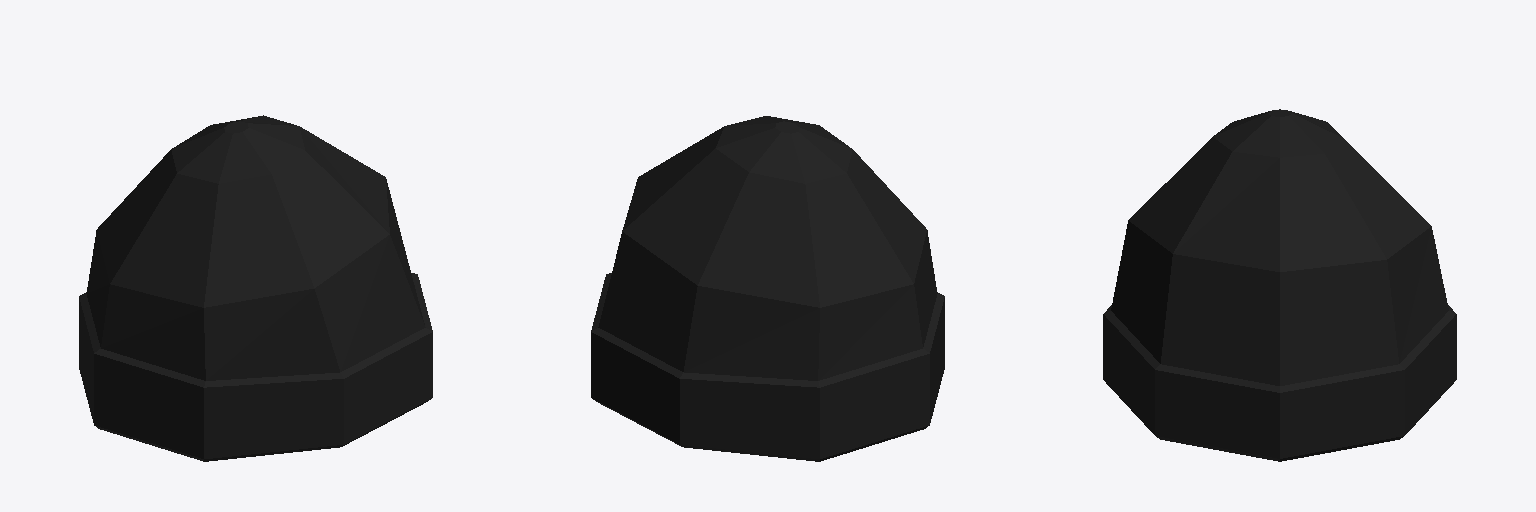
The model's file is Beanie.obj.
3 views of the same model, side by side, from view 1: azimuth 30°, elevation 25°; view 2: azimuth 150°, elevation 25°; view 3: azimuth 270°, elevation 25° (orthographic).
Visible parts, largest first — view 1: Beanie_Cylinder.001; view 2: Beanie_Cylinder.001; view 3: Beanie_Cylinder.001.
Part boxes in pixels (bbox=[...]): Beanie_Cylinder.001: bbox=[79, 115, 432, 461]; Beanie_Cylinder.001: bbox=[591, 116, 944, 461]; Beanie_Cylinder.001: bbox=[1103, 109, 1456, 461].
Bounding box in the file's own units: 2.12 × 1.68 × 2.